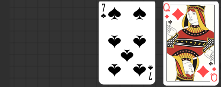7C: (100, 3, 108, 20)
9D: (210, 66, 219, 83)
